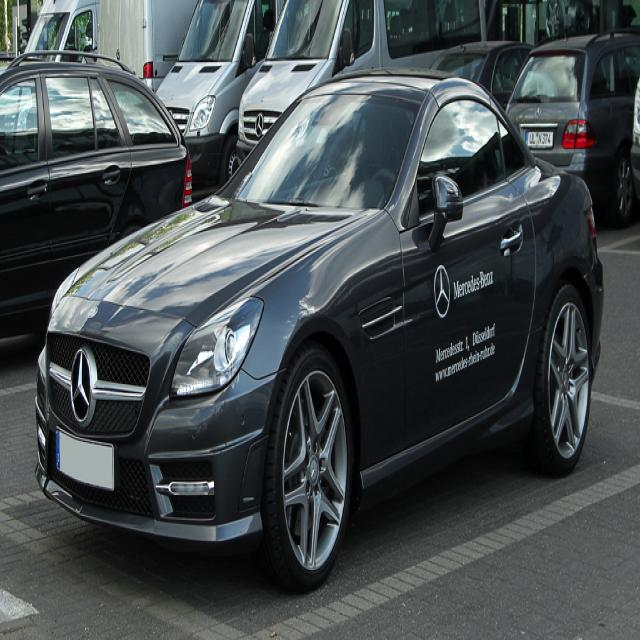car: (41, 57, 601, 579)
